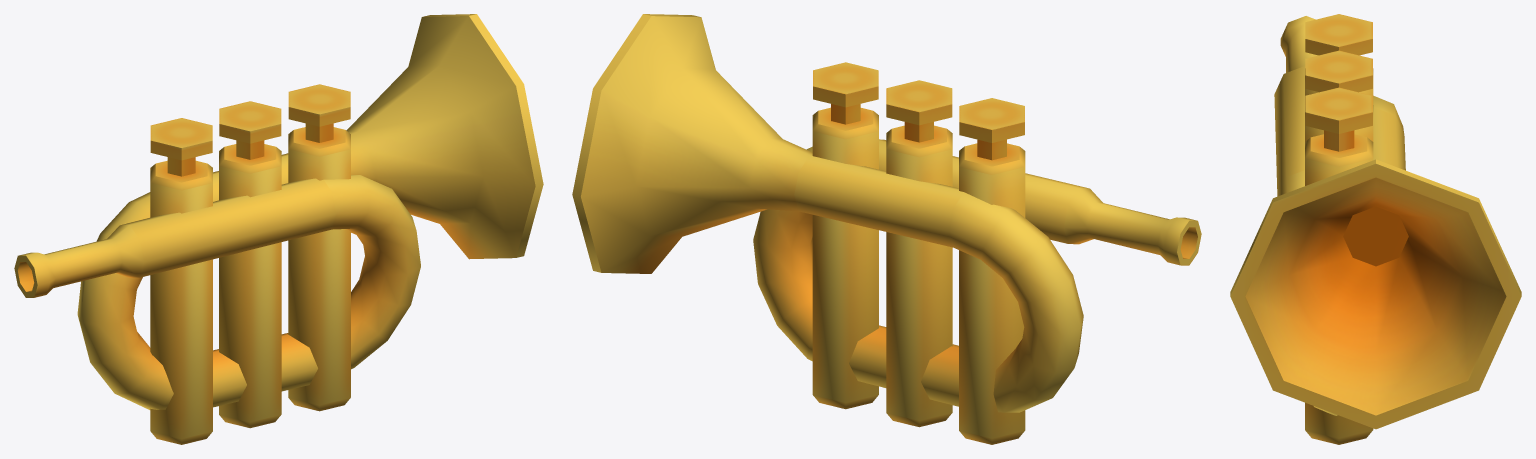
The model's file is ENV2010056.fbx.
The picture shows the model from 3 angles, left to right: view 1: azimuth 30°, elevation 25°; view 2: azimuth 150°, elevation 25°; view 3: azimuth 270°, elevation 25°; orthographic projection. The views are drawn at different scales.
Visible parts, largest first — view 1: smENV2010056; view 2: smENV2010056; view 3: smENV2010056.
Part boxes in pixels (x1,y1,x2,y2): smENV2010056: (14, 14, 543, 444); smENV2010056: (572, 14, 1201, 444); smENV2010056: (1230, 14, 1521, 444).
Size of the model in its own units: 24.02 by 15.7 by 11.49.
1 material, 1 textured.
